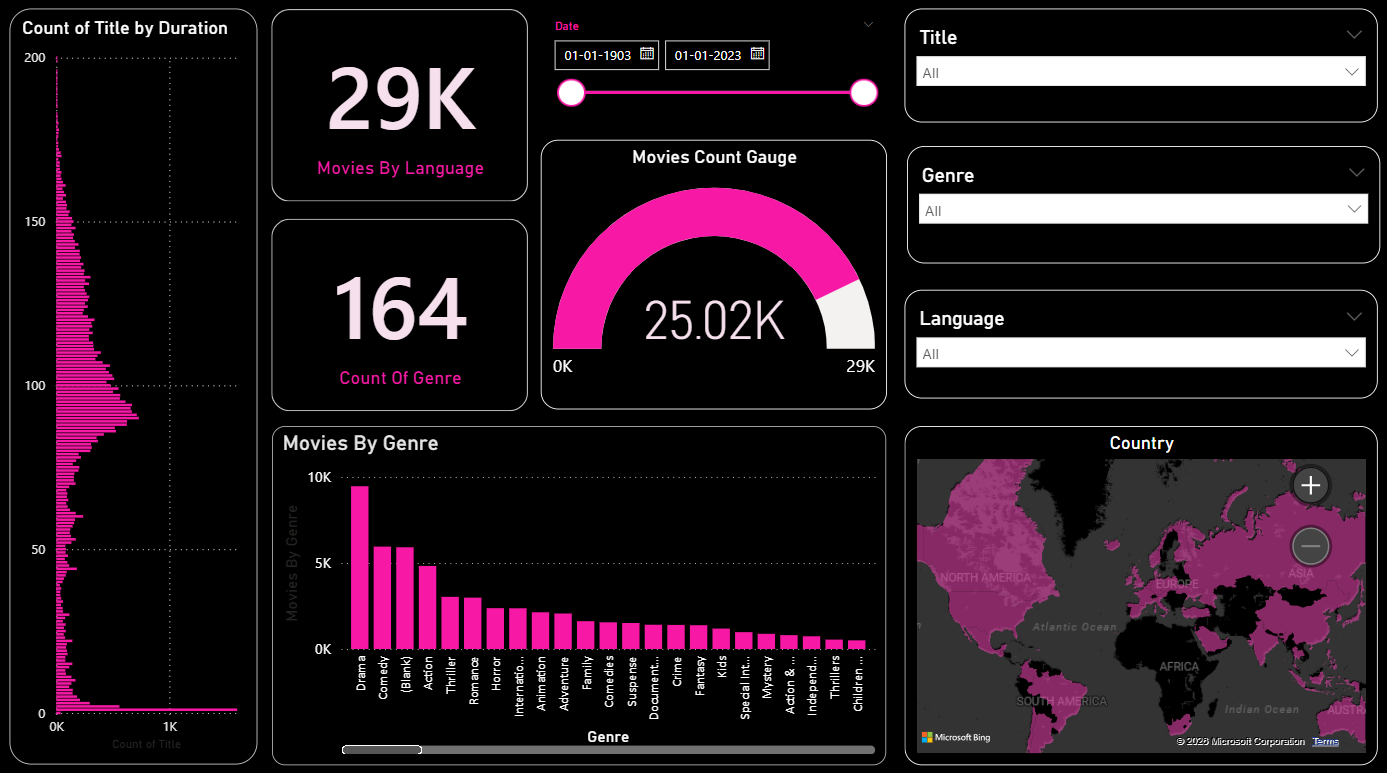

This screenshot's page, from the dashboard's own definition file:
{"tool":"powerbi","page":{"name":"Dashboard_2","canvas":[1280,720],"ordinal":1},"visuals":[{"type":"barChart","title":"Count Of Title By Duration","fields":{"Category":["Fact_table.Duration_Min"],"Y":["CountNonNull(Fact_table.Title)"]},"box":[11.7,11.7,228.3,695],"z":0},{"type":"clusteredColumnChart","title":"Movies By Genre","fields":{"Y":["Dim_Genre.Movies By Genre"],"Category":["Dim_Genre.Genre"]},"box":[253.3,395,565,311.7],"z":1000},{"type":"cardVisual","fields":{"Data":["Fact_table.Movies By Language","Dim_Genre.Count Of Genre"]},"box":[240,0,260,395],"z":2000},{"type":"gauge","title":"Movies Count Gauge","fields":{"Y":["Fact_table.Total Number Of Movies"],"MaxValue":["Fact_table.Total_titles"]},"box":[500,131.7,318.3,248.3],"z":3000},{"type":"slicer","fields":{"Values":["Fact_table.Title"]},"box":[835,11.7,435,105],"z":4000},{"type":"slicer","fields":{"Values":["Dim_Genre.Genre"]},"box":[836.7,138.3,435,108.3],"z":5000},{"type":"slicer","fields":{"Values":["Dim_Language.Language"]},"box":[835,270,435,100],"z":6000},{"type":"filledMap","title":"Country","fields":{"Category":["Dim_Country.Country_Clean"]},"box":[835,395,435,312],"z":7000},{"type":"slicer","fields":{"Values":["Fact_table.Release_Date"]},"box":[500,15.7,318.6,97.1],"z":8000}]}

Visuals, with their boxes in screenshot pixels (x1, y1, x2, y2), scaled from the page's 1280x720 canvas onto the 1387x773 screenshot:
"Count Of Title By Duration" barChart: {"left": 13, "top": 13, "right": 260, "bottom": 759}
"Movies By Genre" clusteredColumnChart: {"left": 274, "top": 424, "right": 887, "bottom": 759}
cardVisual - Fact_table.Movies By Language x Dim_Genre.Count Of Genre: {"left": 260, "top": 0, "right": 542, "bottom": 424}
"Movies Count Gauge" gauge: {"left": 542, "top": 141, "right": 887, "bottom": 408}
slicer - Fact_table.Title: {"left": 905, "top": 13, "right": 1376, "bottom": 125}
slicer - Dim_Genre.Genre: {"left": 907, "top": 148, "right": 1378, "bottom": 265}
slicer - Dim_Language.Language: {"left": 905, "top": 290, "right": 1376, "bottom": 397}
"Country" filledMap: {"left": 905, "top": 424, "right": 1376, "bottom": 759}
slicer - Fact_table.Release_Date: {"left": 542, "top": 17, "right": 887, "bottom": 121}
